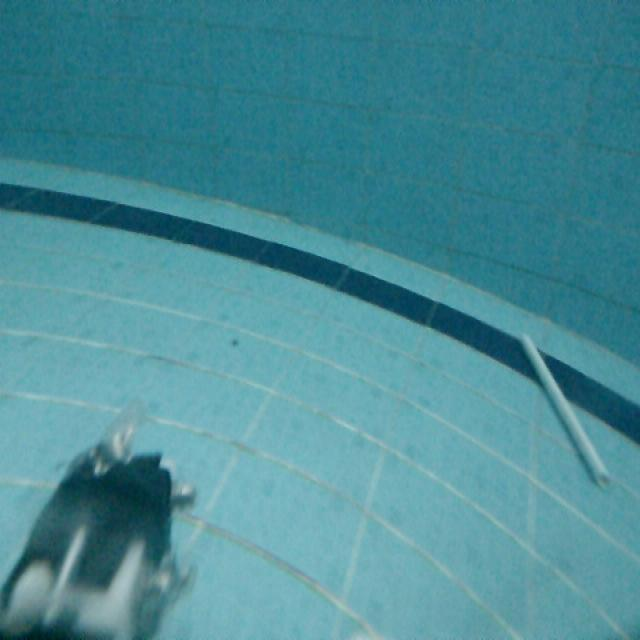Cube: (516, 329, 612, 490)
